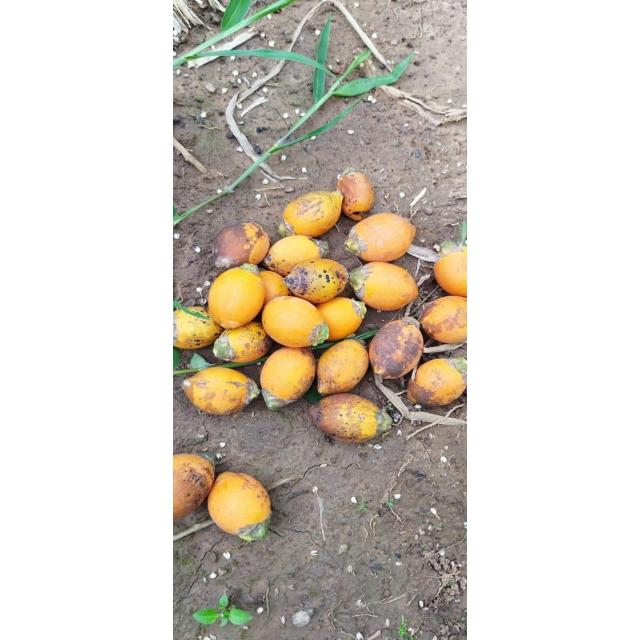good: (310, 393, 392, 441), (181, 366, 259, 416), (209, 478, 273, 538), (207, 267, 266, 329), (344, 214, 418, 262), (259, 347, 317, 408), (262, 296, 328, 349), (368, 318, 424, 379), (348, 262, 418, 310), (283, 258, 349, 304), (408, 357, 467, 408), (174, 453, 216, 523), (315, 340, 369, 394), (210, 222, 270, 270), (282, 191, 344, 237), (262, 235, 328, 277), (213, 322, 275, 364), (419, 297, 466, 345), (316, 297, 366, 341), (174, 306, 222, 350), (336, 170, 374, 220), (434, 245, 466, 299), (260, 270, 290, 304)
